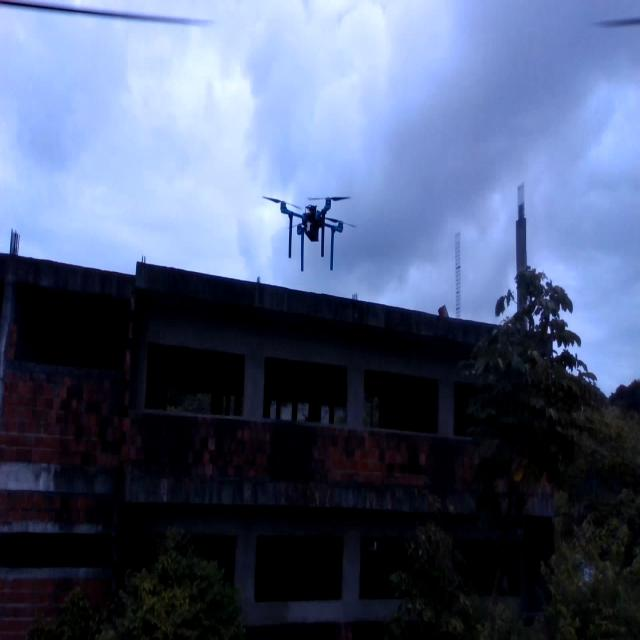-uav-: (256, 179, 366, 283)
